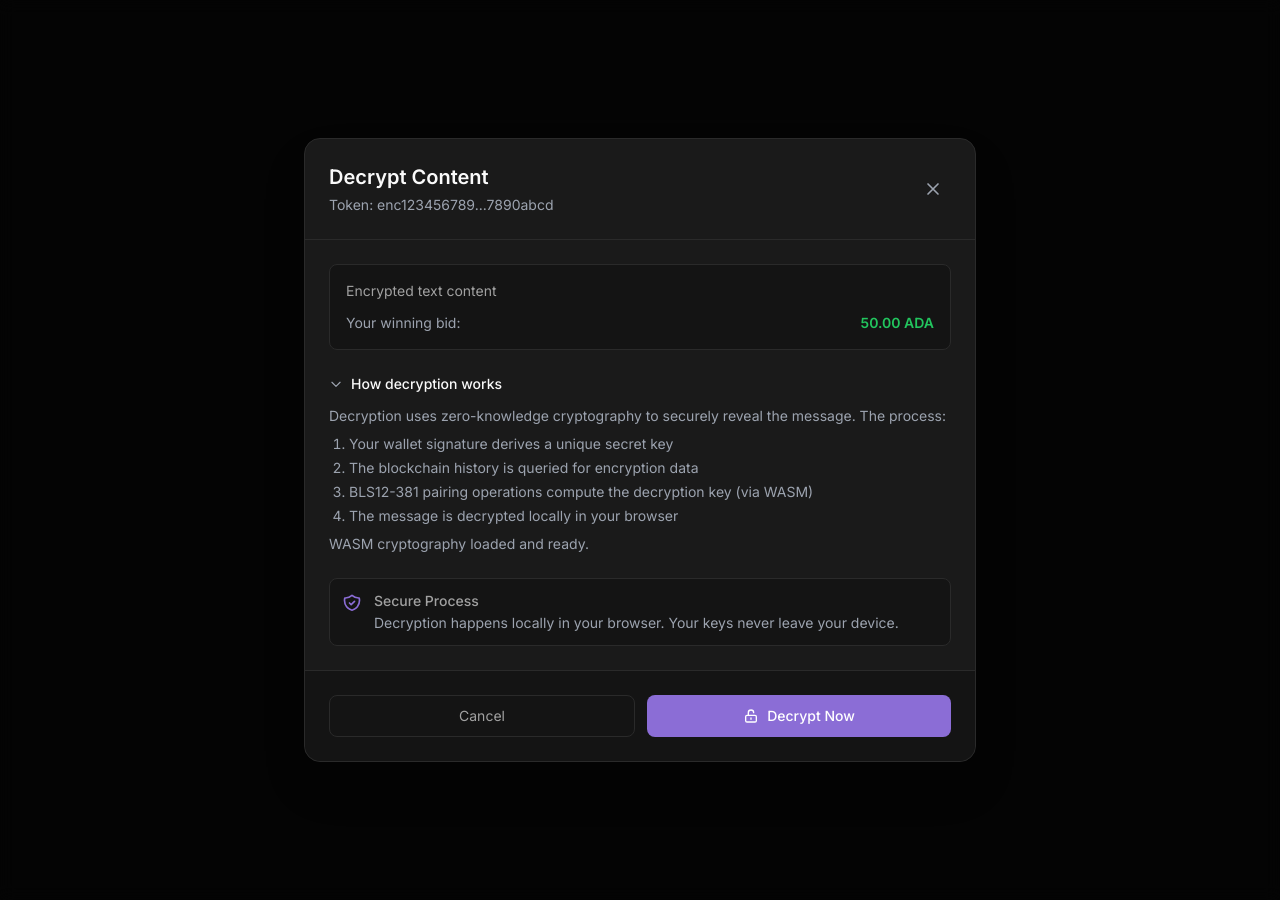
Test: DecryptModal › shows downloading state when phase switches to downloading
The width and height of the screenshot is (1280, 900).
Click the button "Decrypt Now". click: coordinates (799, 716)
box: left=647, top=695, right=951, bottom=737
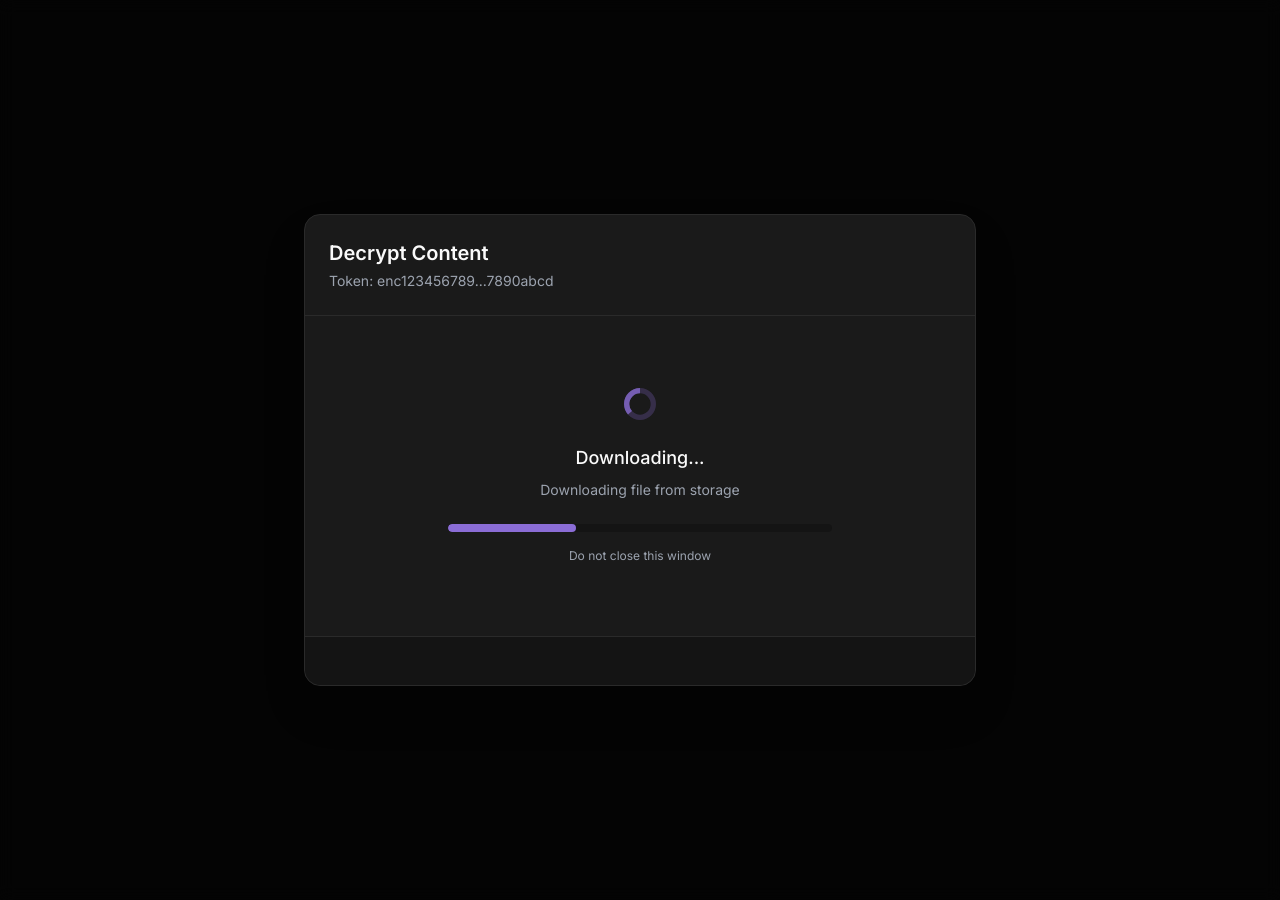
Now the heading "Downloading..." is shown, box left=575, top=447, right=704, bottom=468
Now the text "Downloading file from storage" is shown, box left=540, top=481, right=740, bottom=498
Now the text "Do not close this window" is shown, box left=569, top=548, right=711, bottom=563
